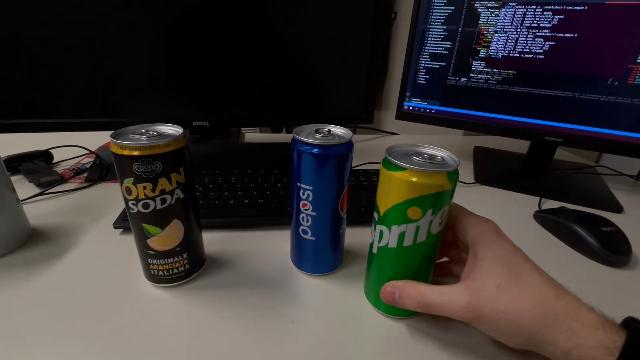OranSoda: (108, 122, 206, 290)
Pepsi: (288, 121, 354, 277)
Sprite: (361, 142, 462, 322)
